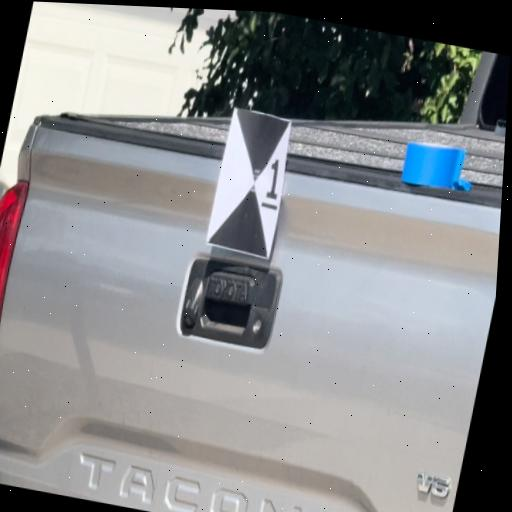target1: (205, 105, 296, 259)
